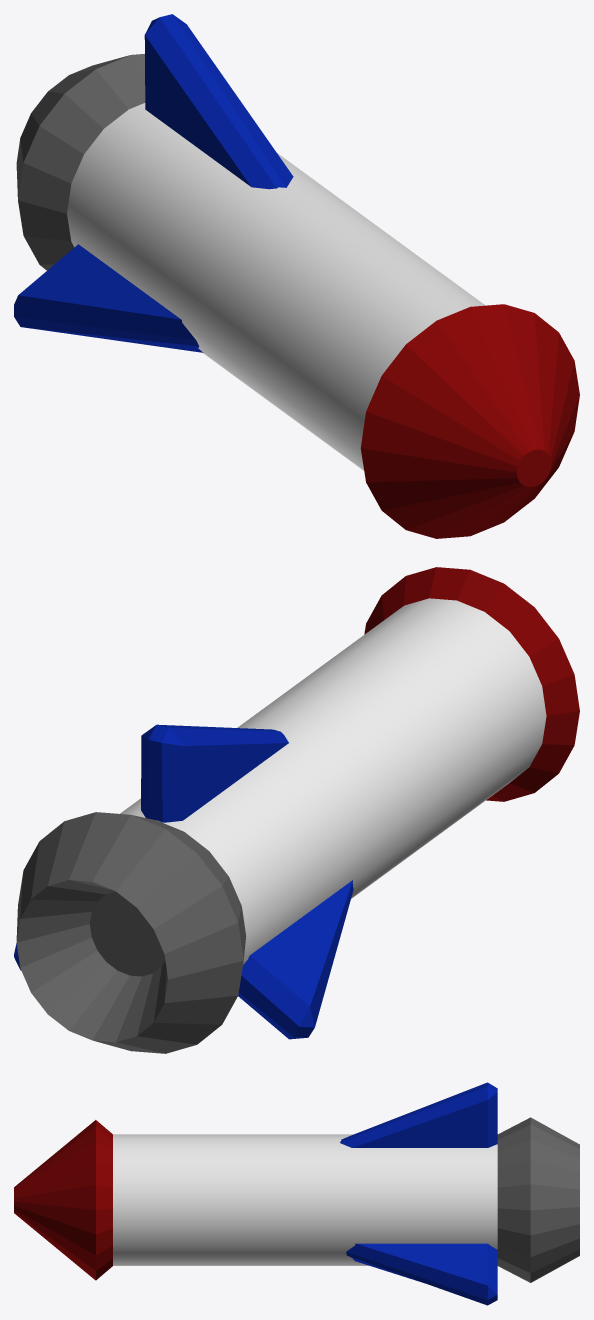
Rendered from rocket.fbx.
The picture shows the model from 3 angles, top to bottom: view 1: azimuth 30°, elevation 25°; view 2: azimuth 150°, elevation 25°; view 3: azimuth 270°, elevation 25°; orthographic projection. The views are drawn at different scales.
Visible parts, largest first — view 1: Body, Head, Exhaust, pCube5, Wings; view 2: Body, Exhaust, Head, pCube5, Wings; view 3: Body, Exhaust, Head, pCube5, pCube3.
Part boxes in pixels (bbox=[...]): Body: bbox=[67, 103, 485, 470]; Head: bbox=[360, 304, 579, 538]; Exhaust: bbox=[16, 54, 145, 270]; pCube5: bbox=[144, 14, 293, 189]; Wings: bbox=[14, 244, 203, 352]; Body: bbox=[120, 598, 546, 964]; Exhaust: bbox=[16, 812, 246, 1053]; Head: bbox=[364, 567, 579, 801]; pCube5: bbox=[141, 724, 288, 822]; Wings: bbox=[238, 880, 353, 1039]; Body: bbox=[113, 1134, 497, 1265]; Exhaust: bbox=[497, 1117, 579, 1282]; Head: bbox=[14, 1120, 112, 1280]; pCube5: bbox=[340, 1082, 497, 1147]; pCube3: bbox=[346, 1243, 497, 1305].
Bounding box in the file's own units: 3.71 × 3.53 × 9.44.
